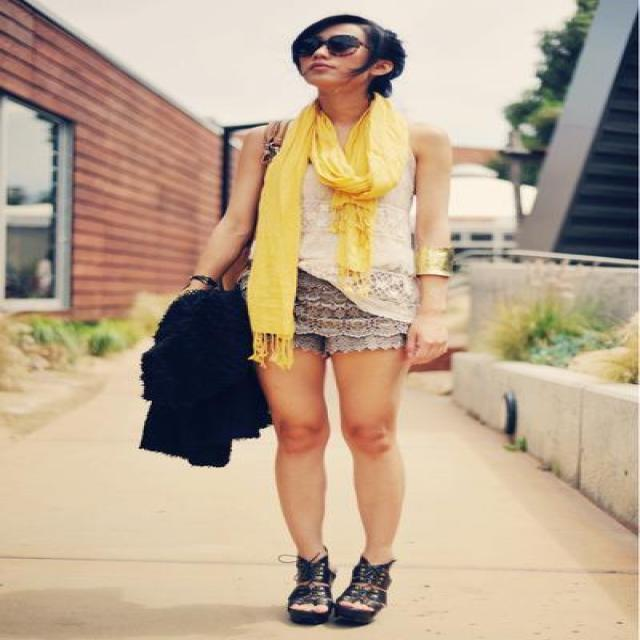jacket: (140, 275, 270, 466)
shirt: (297, 180, 433, 319)
shoe: (286, 556, 394, 626)
shorts: (293, 269, 416, 364)
sunglass: (293, 38, 344, 70)
